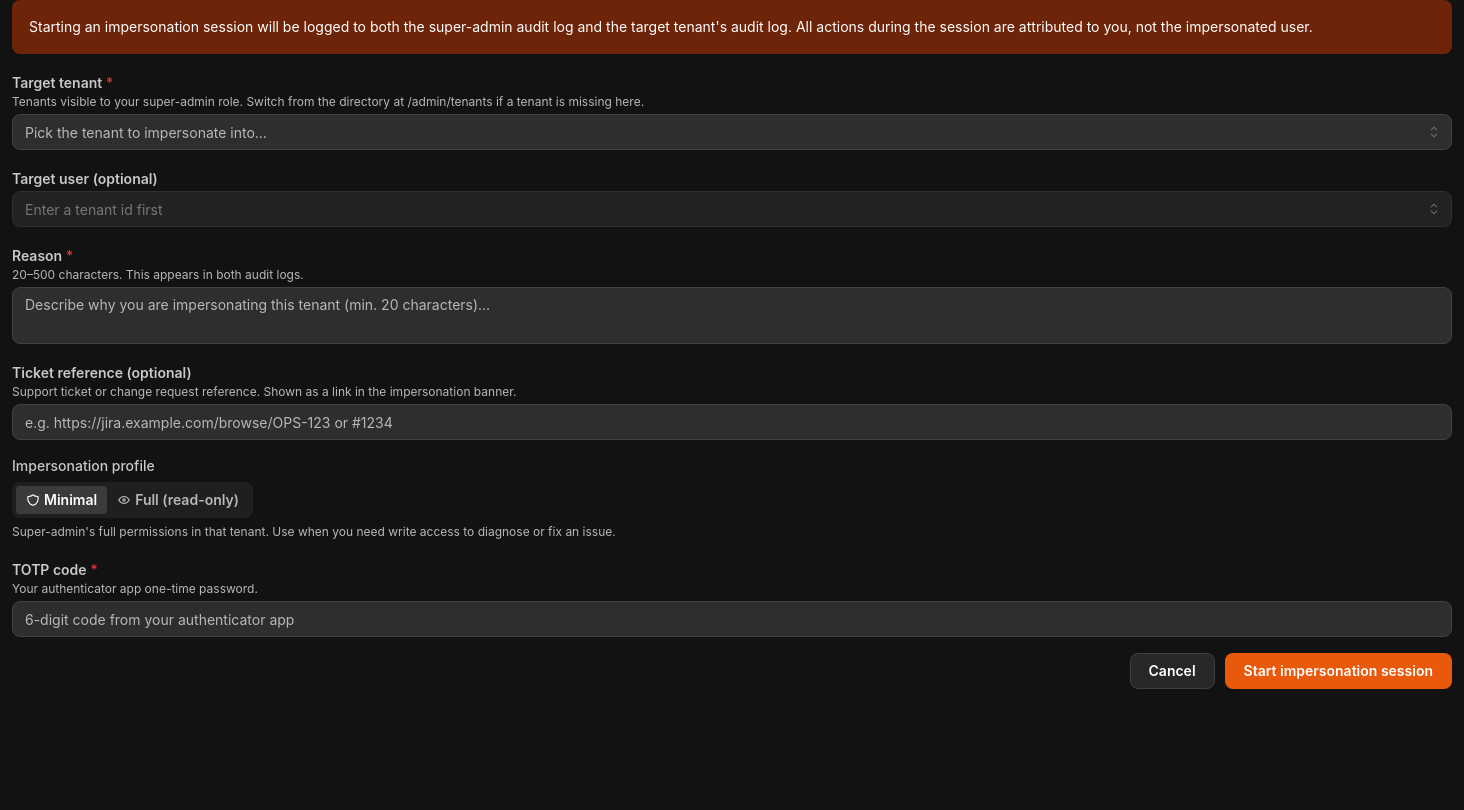
Test: ImpersonationEntryForm › shows validation error if reason is too short
Type "too short" into the text box labelled "Reason *" at (732, 316), box [12,288,1452,344]
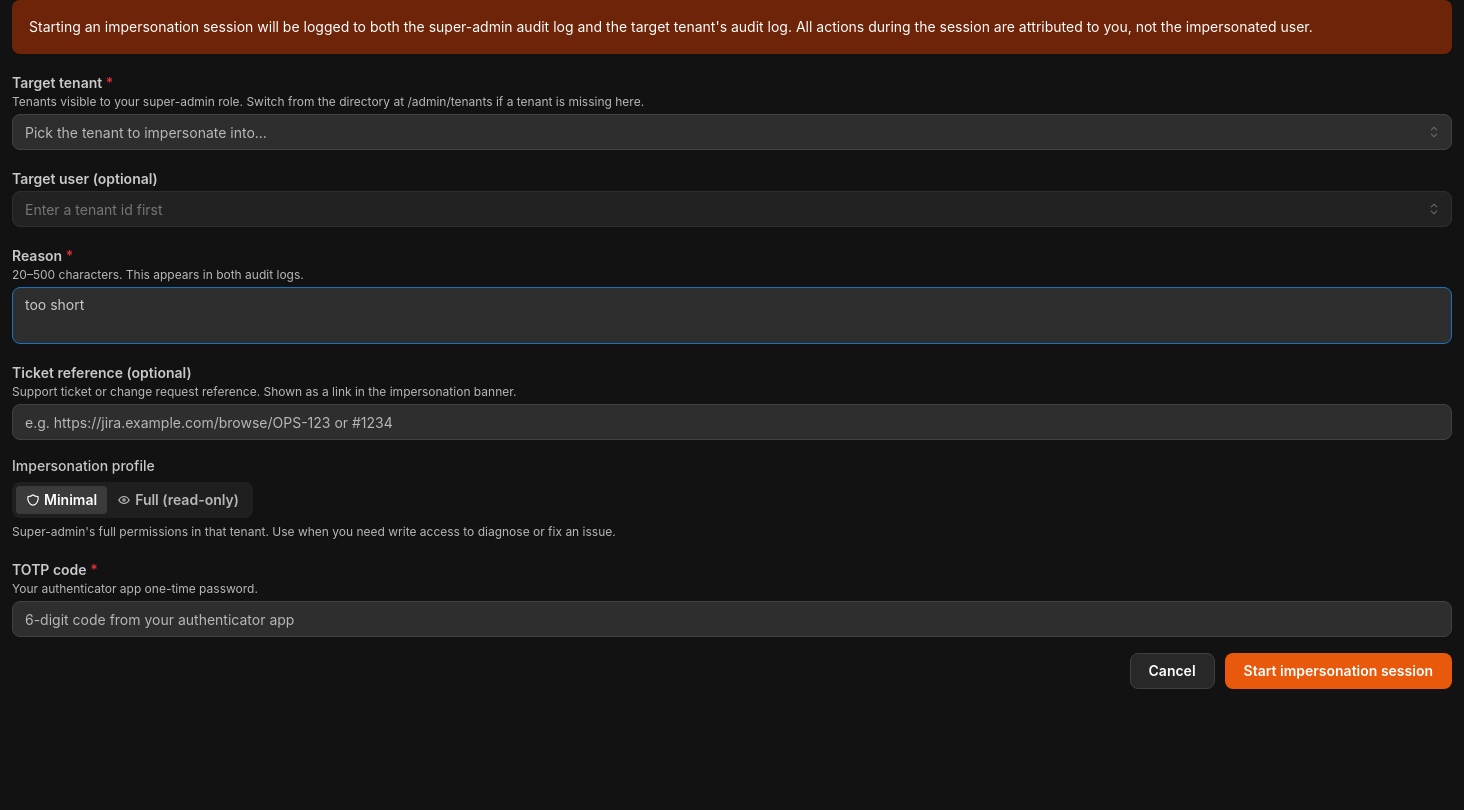
Press Tab
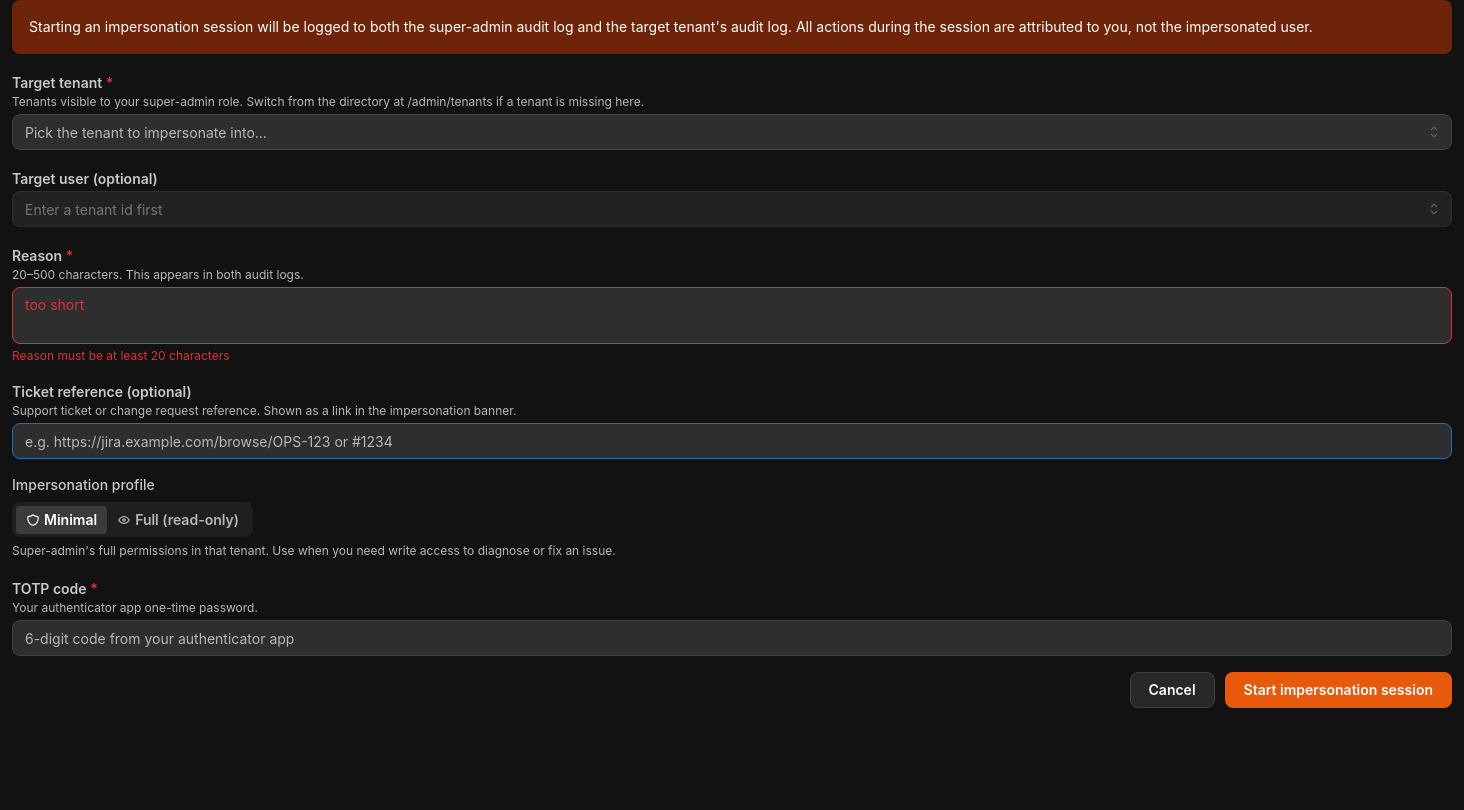
Expected: the text "Reason must be at least 20 characters" is shown, [12,348,230,363]
